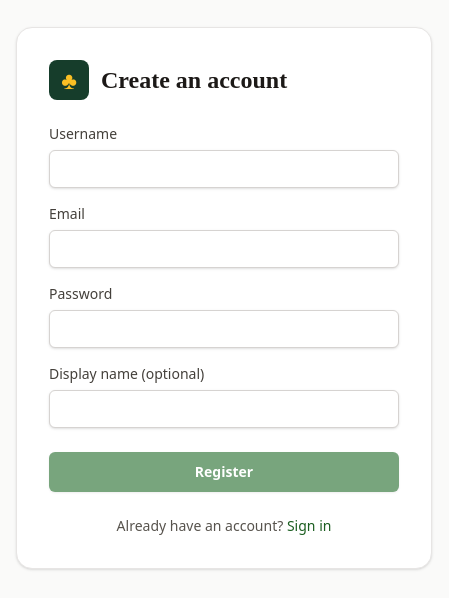
RegisterComponent › surfaces password validation messages on touch
The width and height of the screenshot is (449, 598).
Type "short" into the password field with test id "password" at (224, 329), box [49, 310, 399, 348]
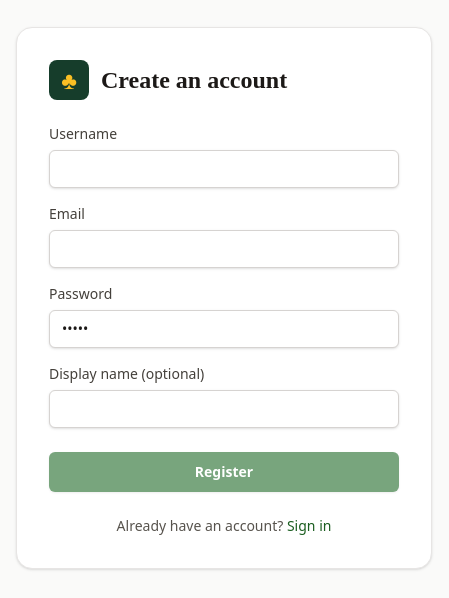
Leave the password field with test id "password", box [49, 310, 399, 348]
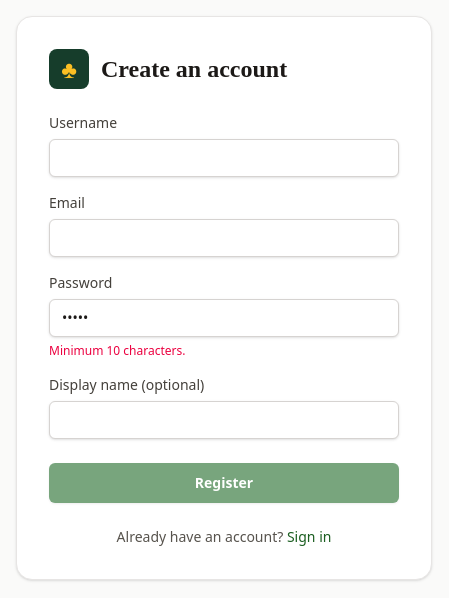
Check: the text "Minimum 10 characters." is shown, box [49, 342, 186, 359]
